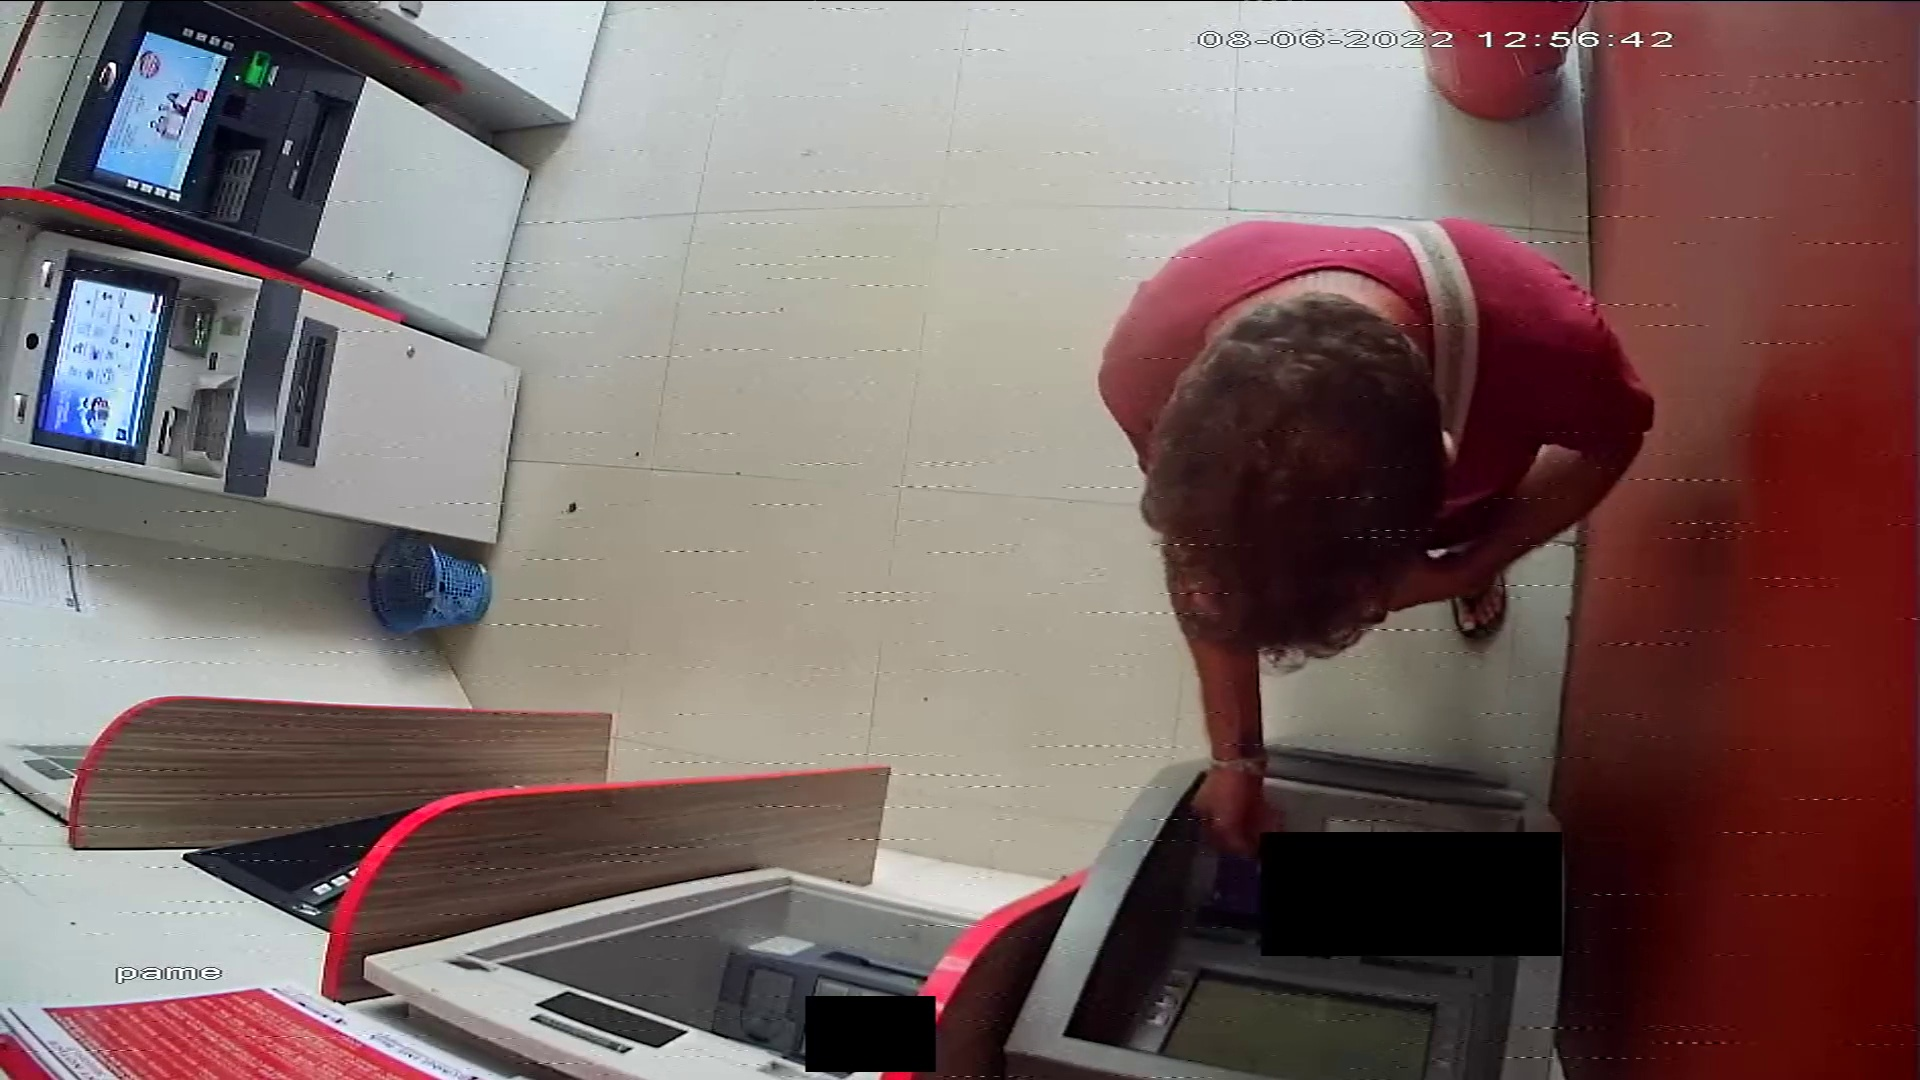person: (1096, 213, 1654, 864)
